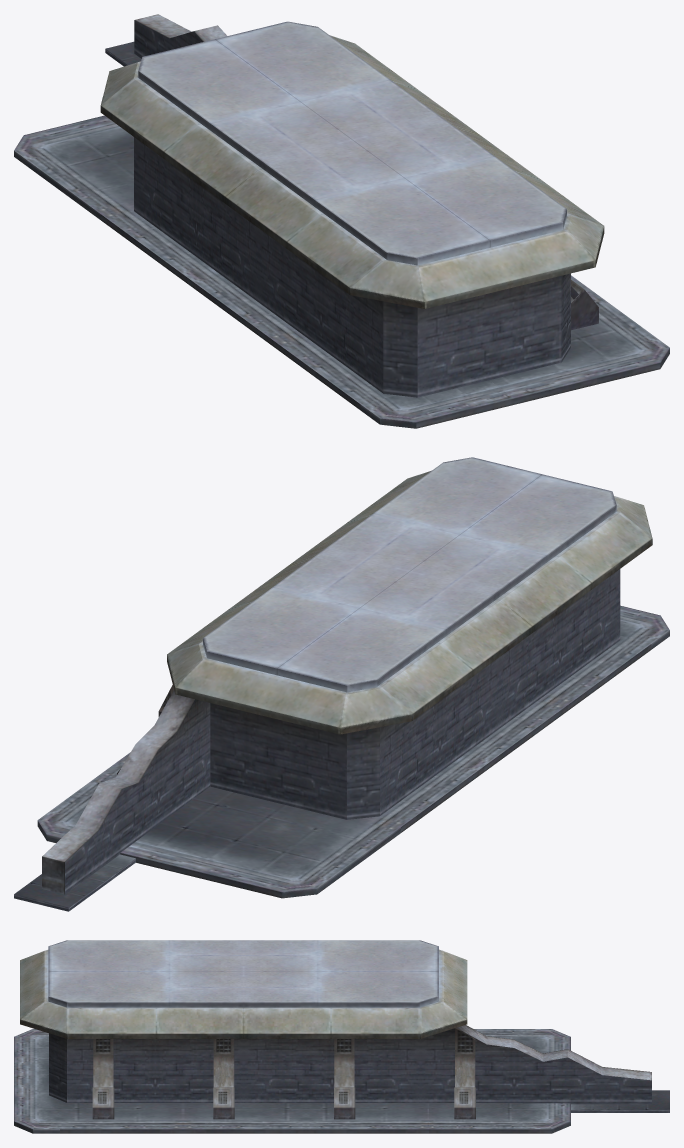
The model's file is yw_wanglingzhita_cangku01.FBX.
3 views of the same model, one above another, from view 1: azimuth 30°, elevation 25°; view 2: azimuth 150°, elevation 25°; view 3: azimuth 270°, elevation 25° (orthographic). The views are drawn at different scales.
Visible parts, largest first — view 1: yw_wanglingzhita_cangku01; view 2: yw_wanglingzhita_cangku01; view 3: yw_wanglingzhita_cangku01.
Boxes of the visible parts, box(x1,y1,x2,y2) form: yw_wanglingzhita_cangku01: box(14, 14, 669, 428); yw_wanglingzhita_cangku01: box(14, 457, 669, 911); yw_wanglingzhita_cangku01: box(14, 940, 669, 1133).
Bounding box in the file's own units: 828 × 391 × 2240.
